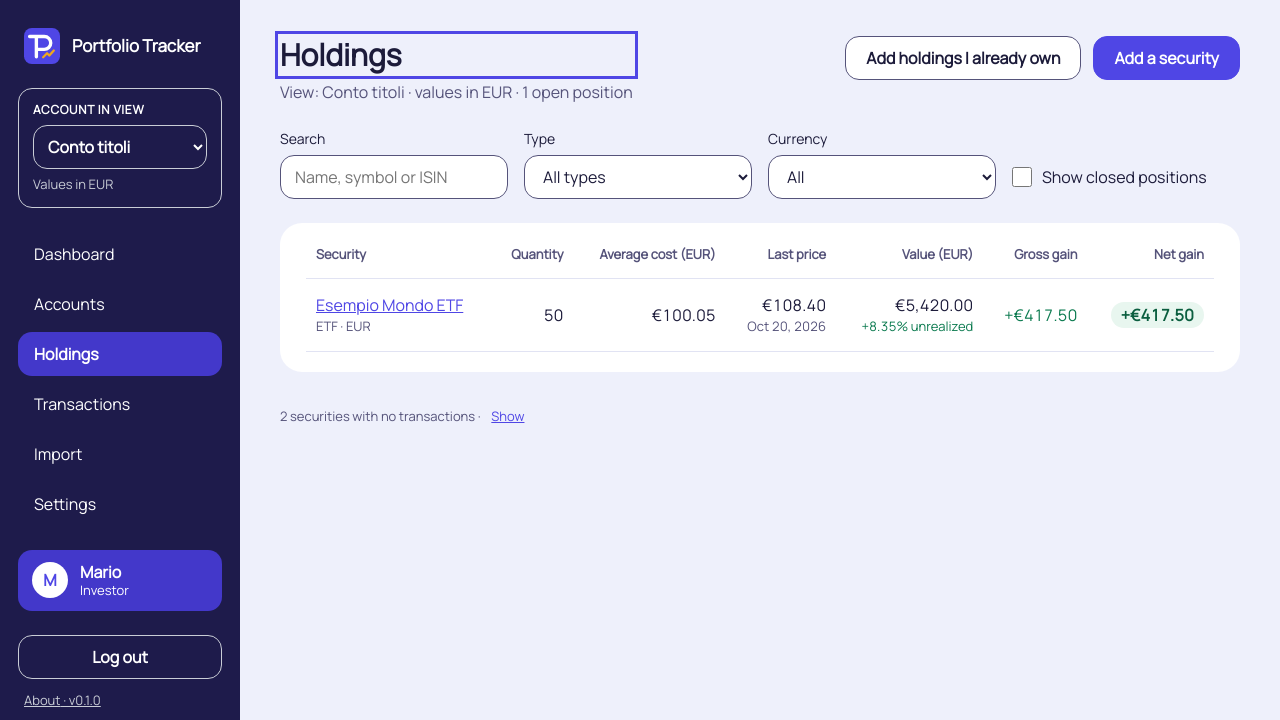
Scenario: holdings list (mockup 02, D-143, D-146) › lists the securities with no transactions on request, each with a link (D-150)
This screenshot has width=1280, height=720.
Click the button "Show".
click(508, 416)  # box [483,404,532,429]
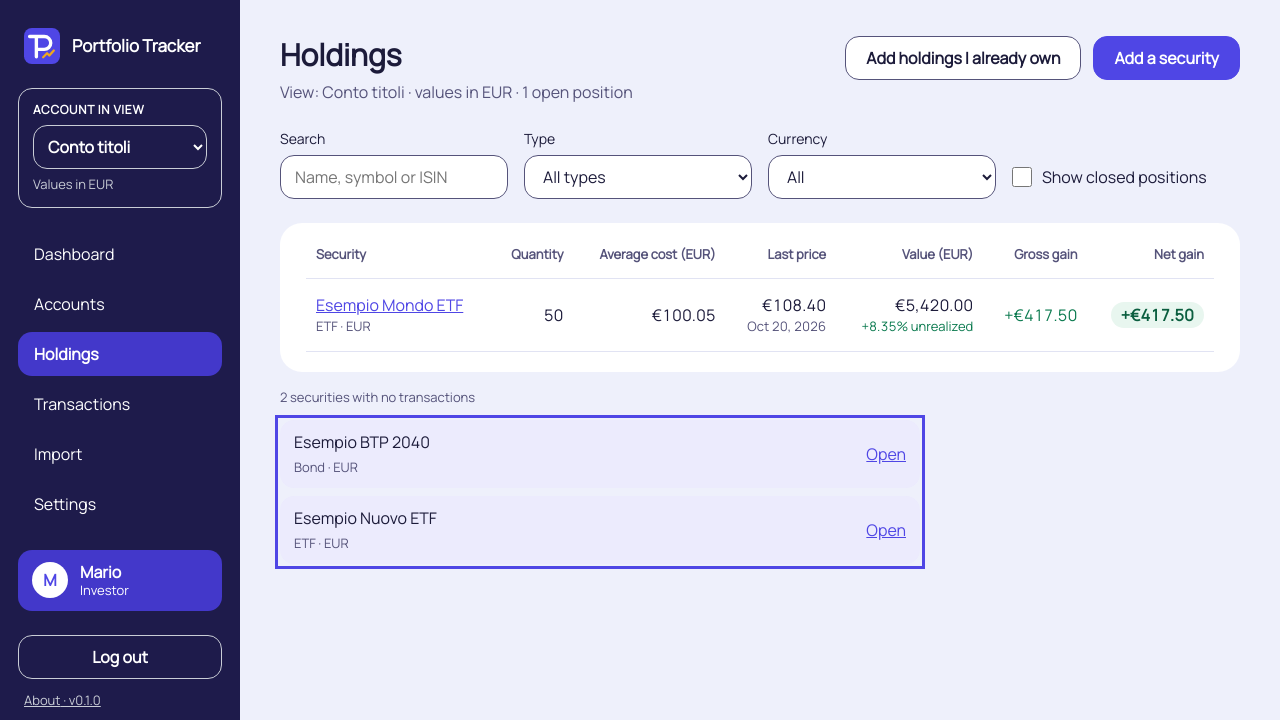
Result: the list items read "Esempio BTP 2040Bond · EUROpen", "Esempio Nuovo ETFETF · EUROpen", in this order at [280,420,920,488]; [280,496,920,564]
